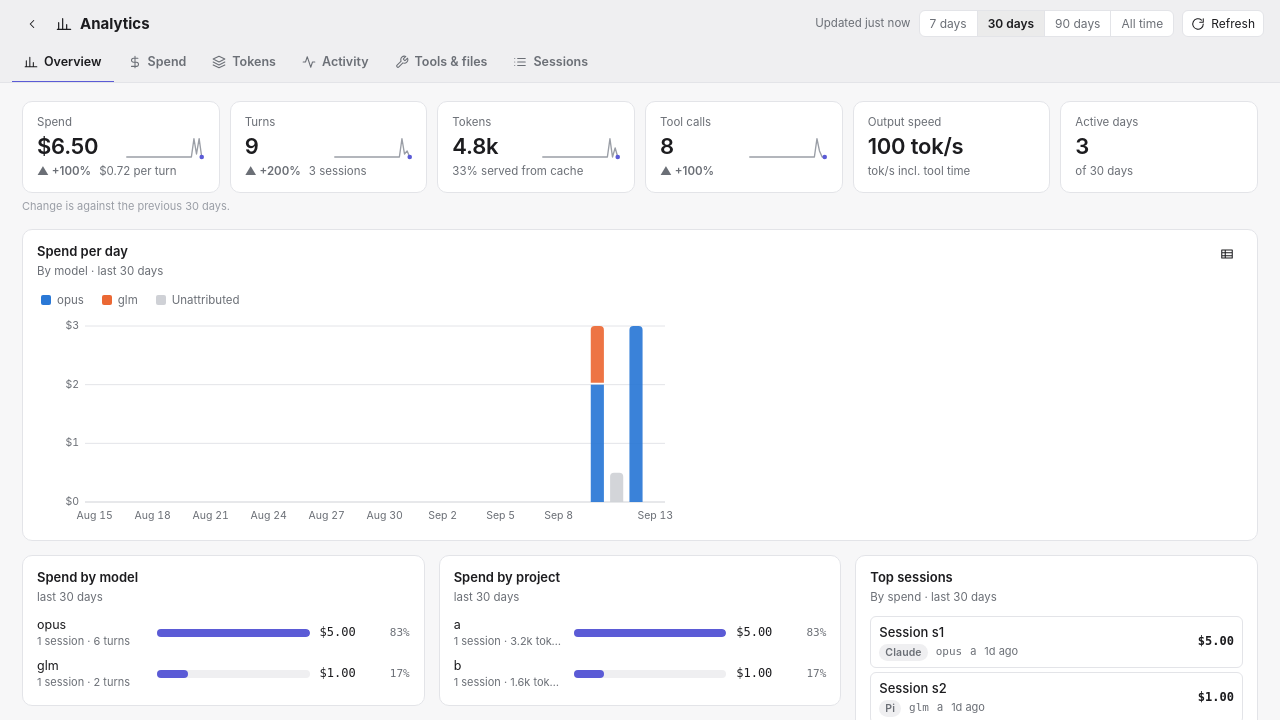
Test: analytics dashboard › shows the error rate of each harness and model pair, worst first
Expected: the text "$6.50" is shown, [37,134,98,160]
Click the tab "Tools & files": [441, 64] box [382,45,500,82]
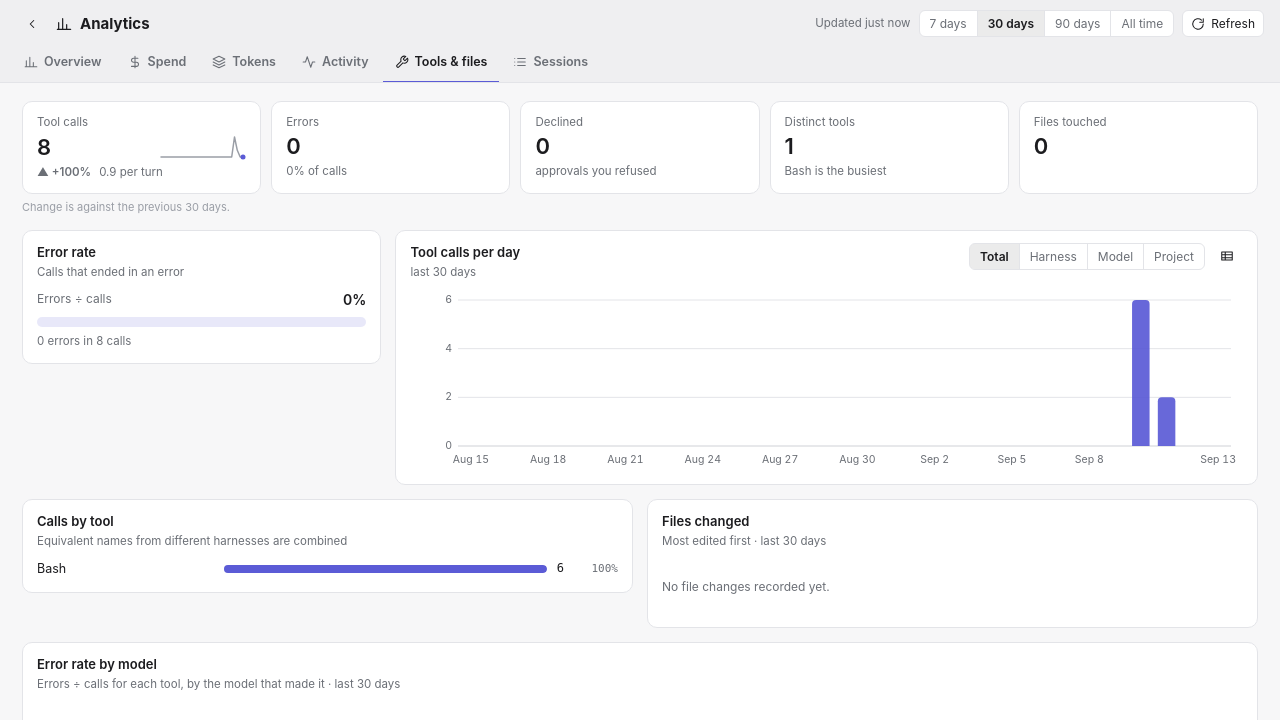
Click the radio button labelled "All time": [1142, 24] box [1110,11,1173,36]
(page scrolled)
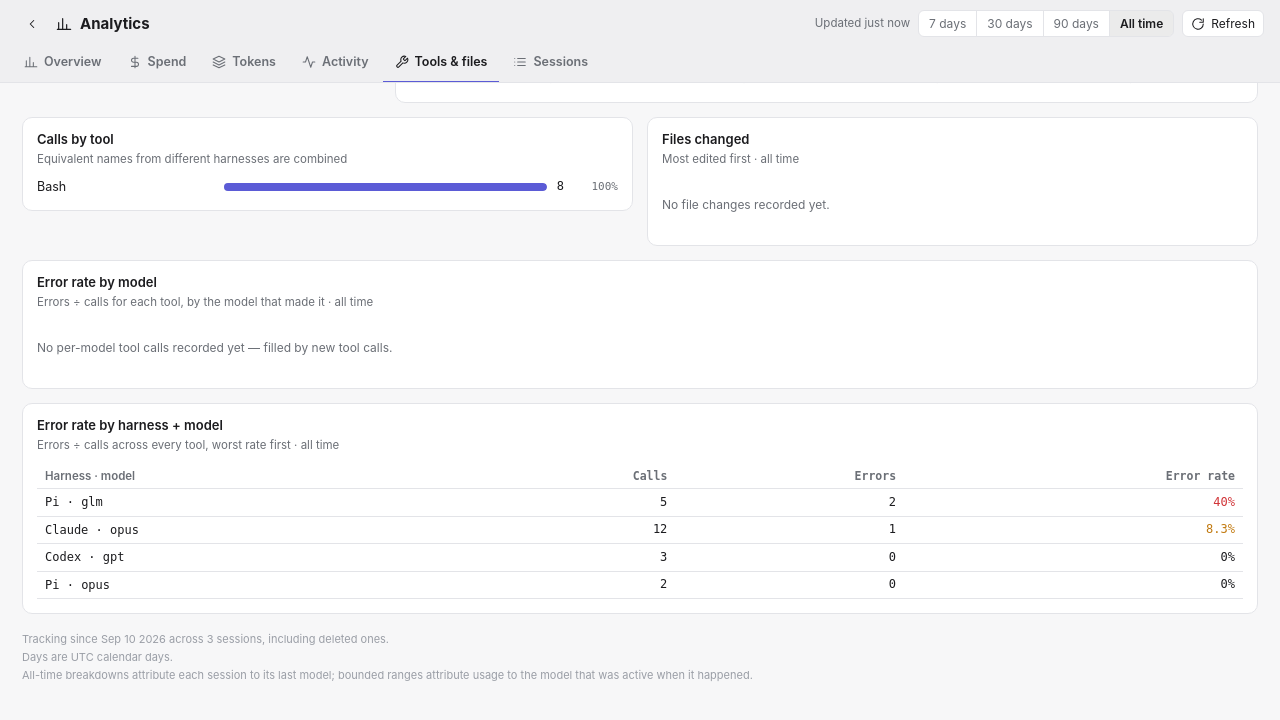
Now the text "Error rate by harness + model" is shown, box [37,417,223,433]
Now the table with class "atable" is shown, box [37,464,1243,599]
